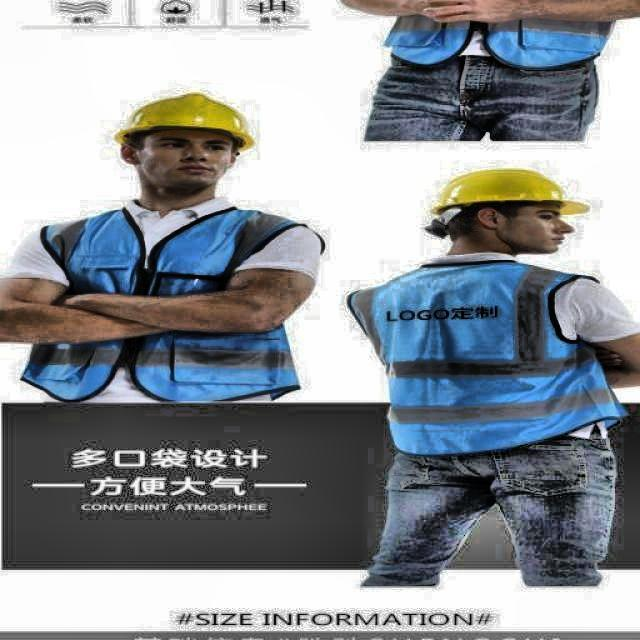safety_jacket: (38, 211, 286, 414), (377, 270, 599, 440)
